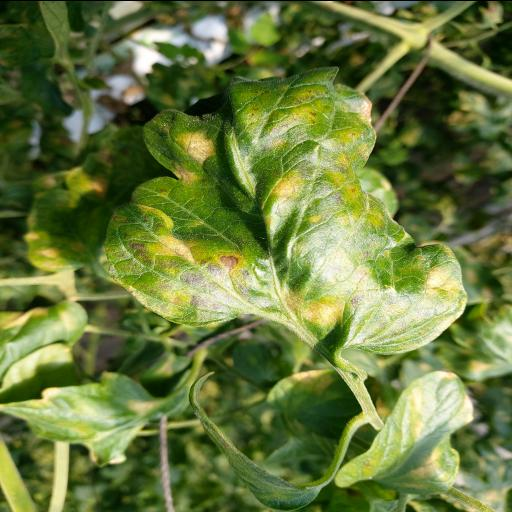disease_tomato: (105, 64, 467, 354), (332, 370, 476, 494), (0, 369, 157, 469)
